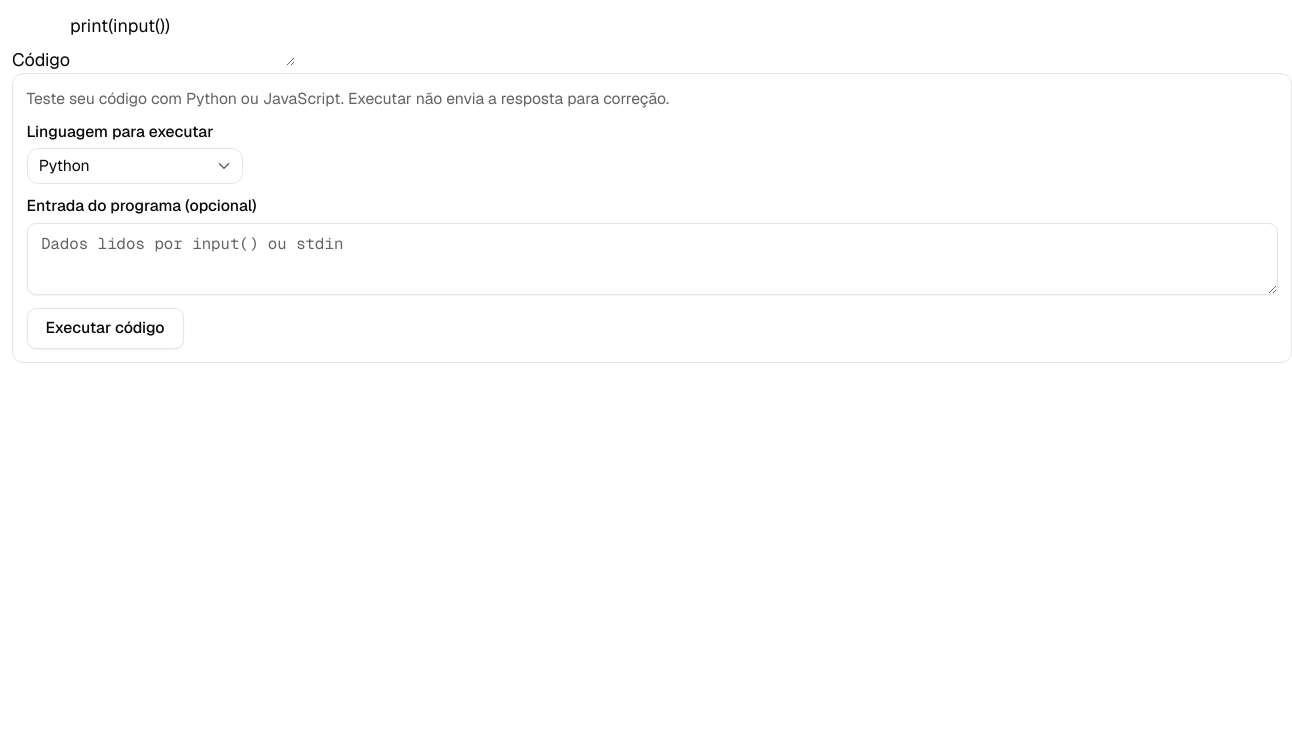
Test: Execução experimental de código › apresenta limite_tempo e saída como texto sem executar HTML
Step 1. Click the button "Executar código" → (105, 328), box x1=26 y1=308 x2=184 y2=348
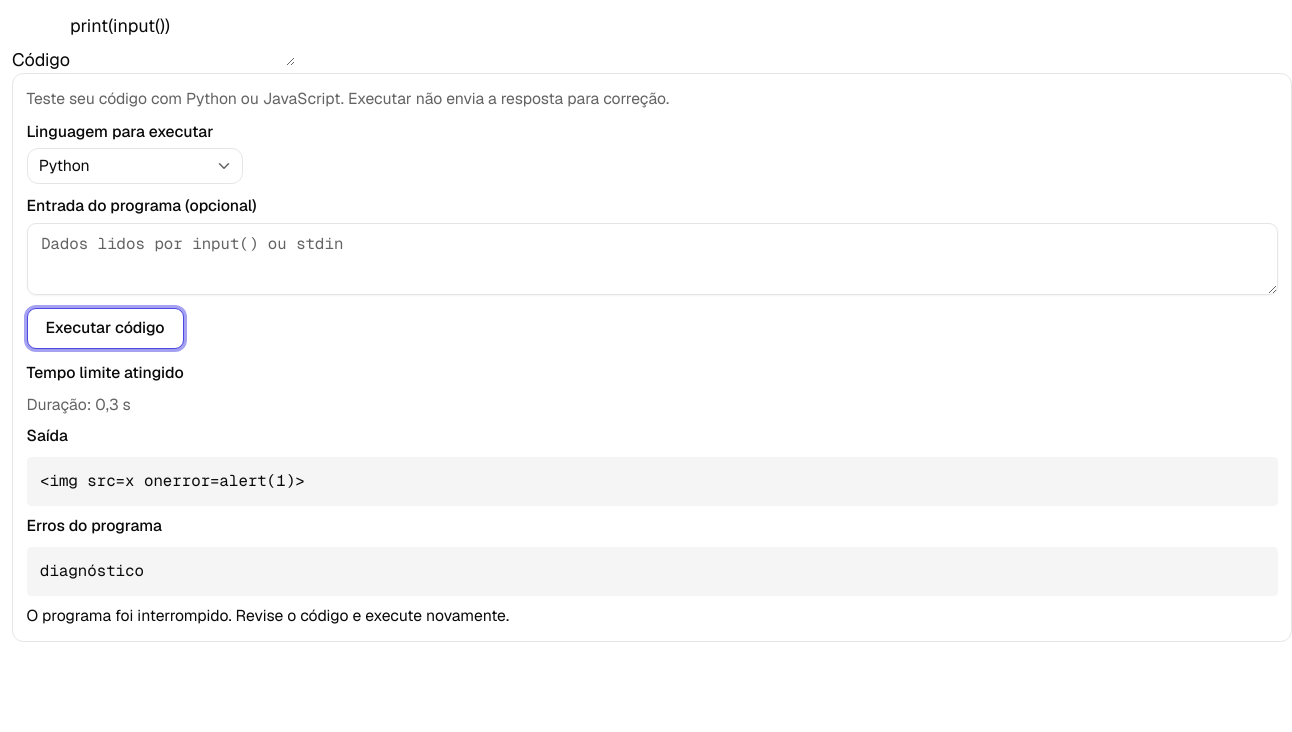
Check: the text "Tempo limite atingido" is shown, box x1=26 y1=362 x2=184 y2=383
Check: the text "<img src=x onerror=alert(1)>" is shown, box x1=26 y1=456 x2=1278 y2=506
Check: the text "diagnóstico" is shown, box x1=26 y1=546 x2=1278 y2=596
